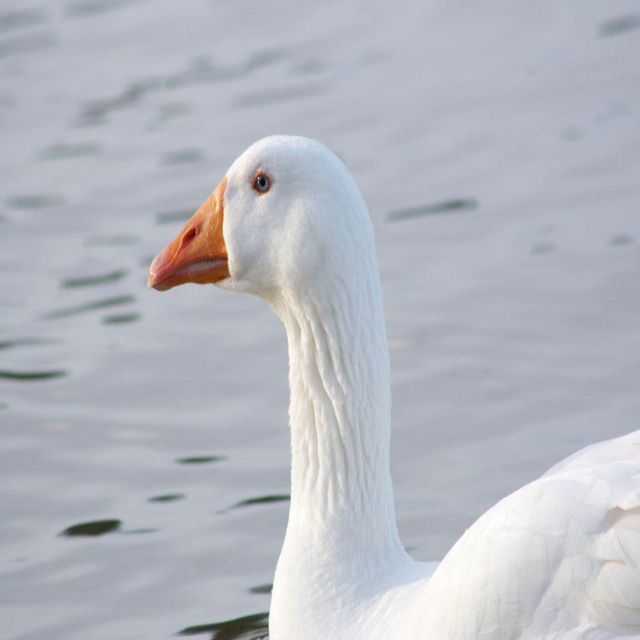Goose: (144, 130, 639, 639)
